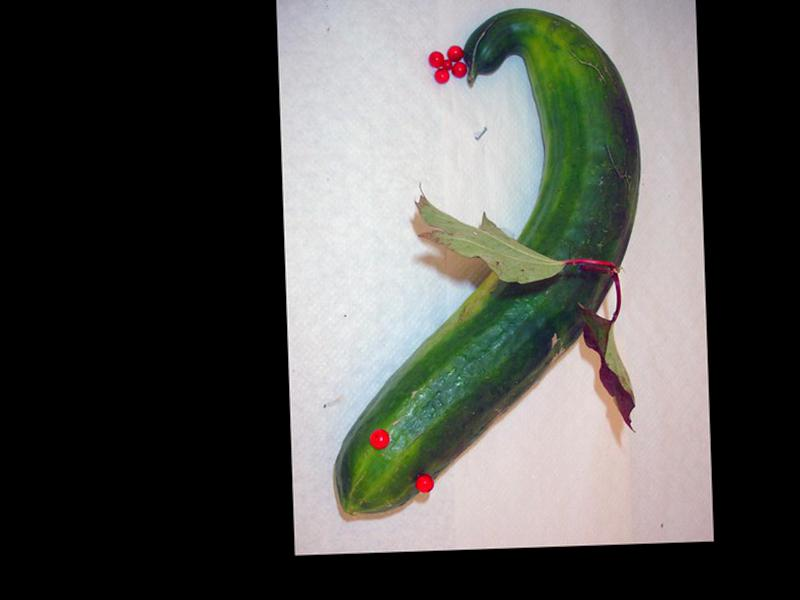Cucumber: (319, 5, 652, 515)
